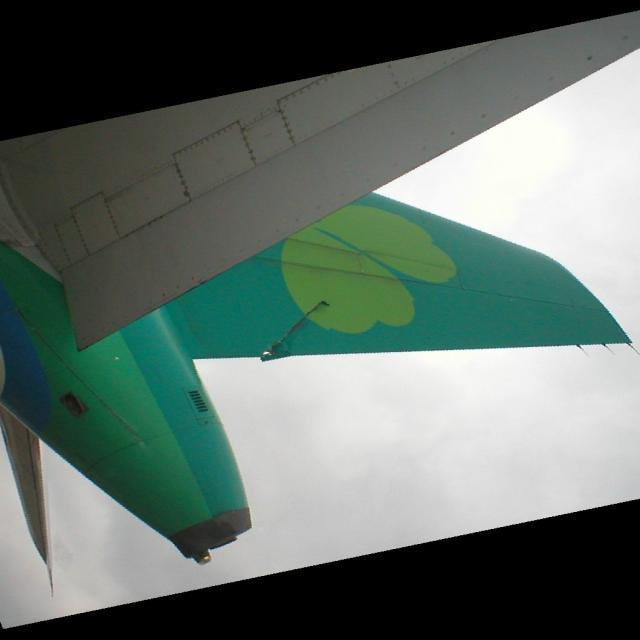crack: (262, 303, 334, 366)
